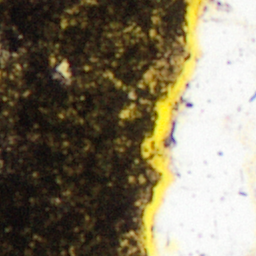cement_matrix: (0, 0, 186, 255), (58, 63, 68, 76), (146, 72, 154, 82), (125, 110, 130, 114)
cracks: (136, 0, 207, 255)
gravel_crushed_stones: (152, 0, 255, 255), (59, 64, 67, 75), (147, 73, 153, 81), (126, 111, 129, 113)
